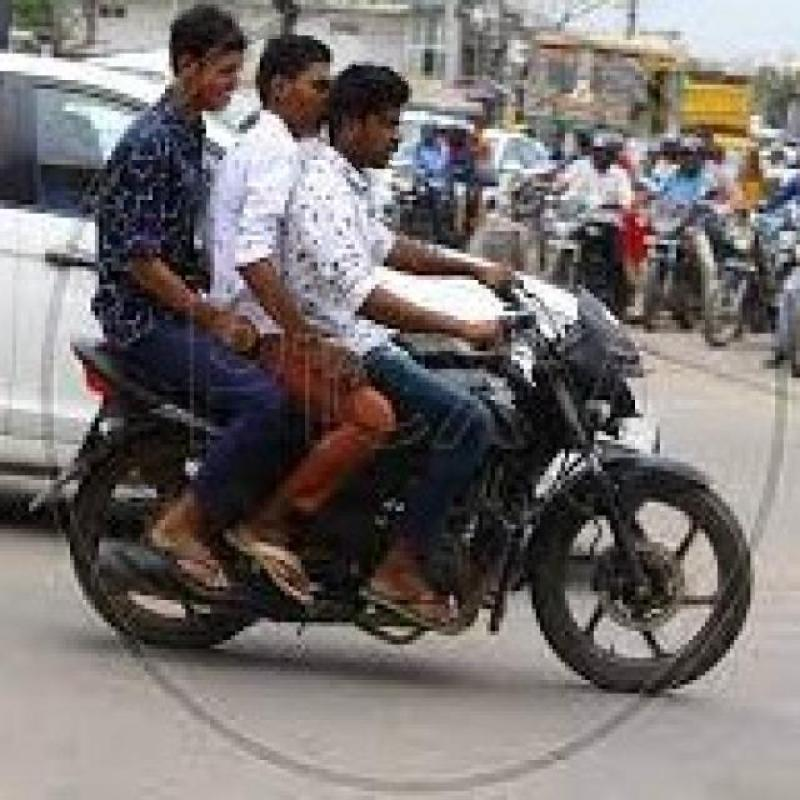nohelmet: (262, 25, 332, 138), (340, 57, 408, 172), (170, 7, 242, 109)
